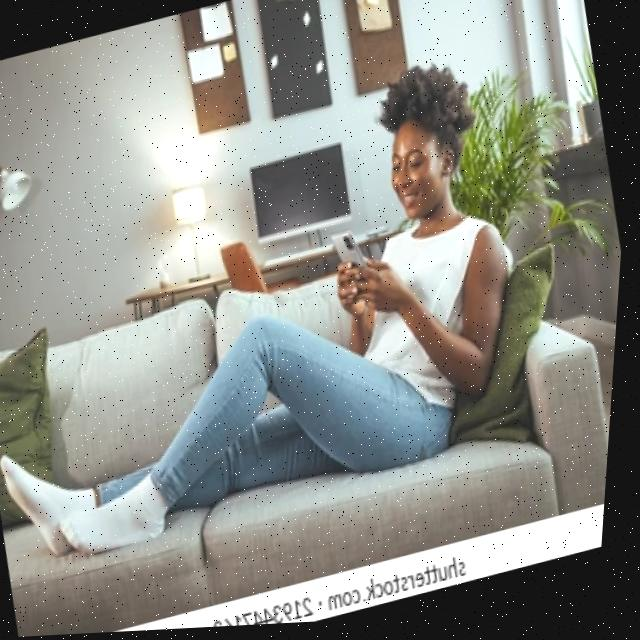smartphone-person: (246, 35, 575, 509)
